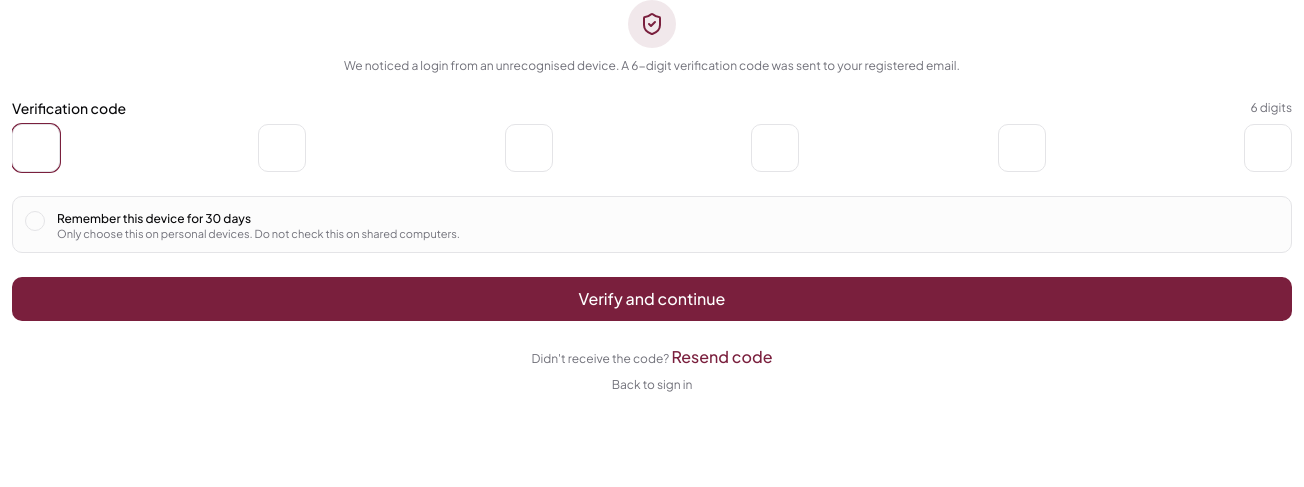
Scenario: VerifyDeviceForm (F10) › displays error banner when challenge token is missing from query params
Type keys "123456"
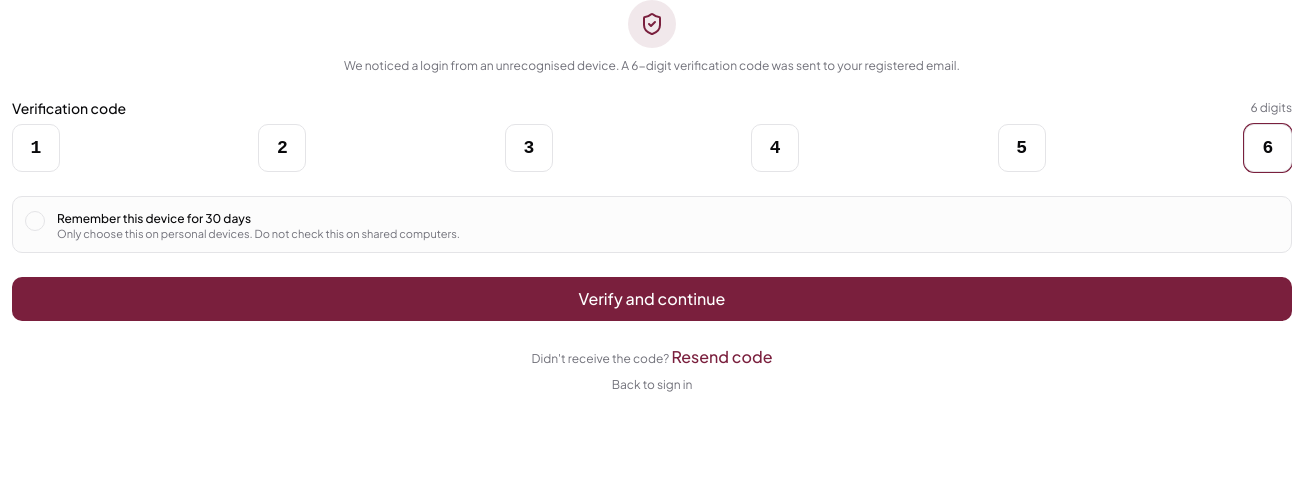
Click the button "Verify and continue". click: (652, 299)
box: [12,277,1292,321]
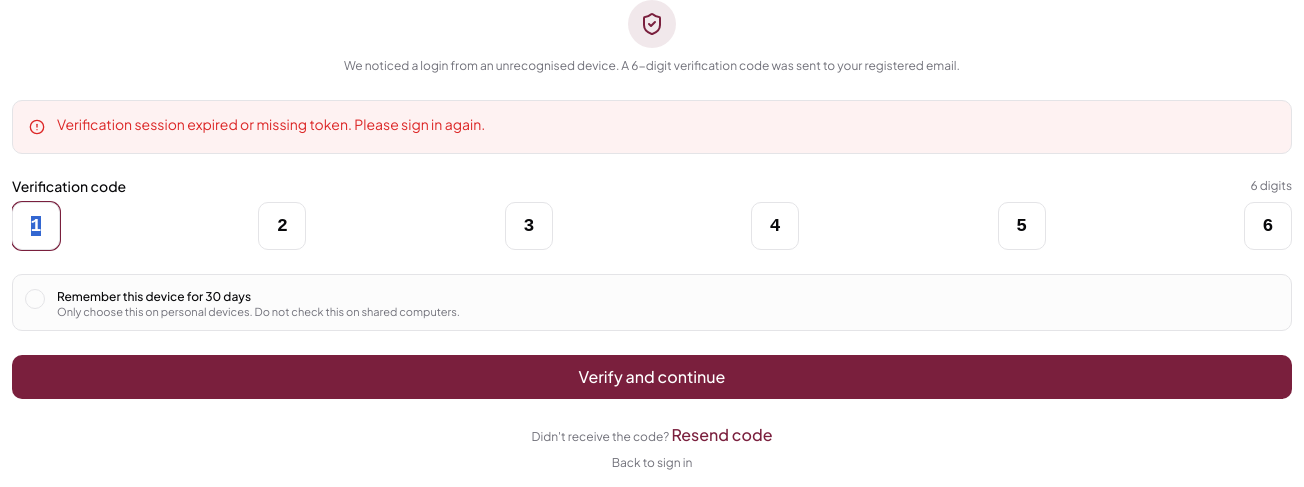
Expected: the text "Verification session expired or missing token" is shown, [57,114,485,132]
